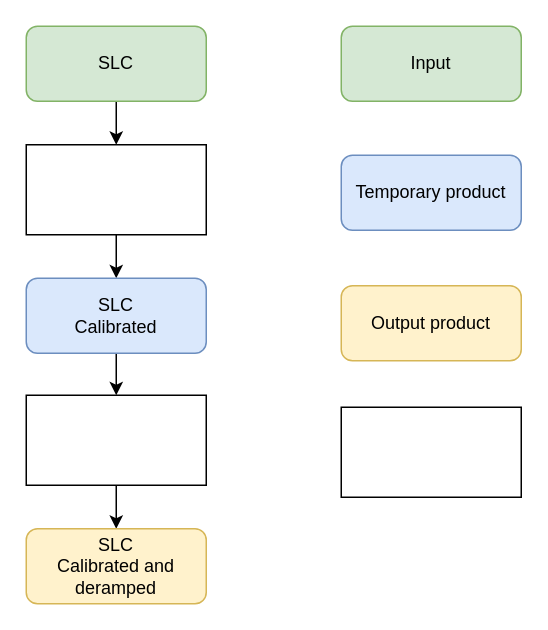
This 548x630 diagram has some shape labels left out. The shapes that lost their labels are listed below. From the top down, each one's centre as x and y in pixels, then its label:
(x=115, y=189): Amplitude Calibration
(x=115, y=439): Phase Deramping
(x=430, y=451): Processing block
